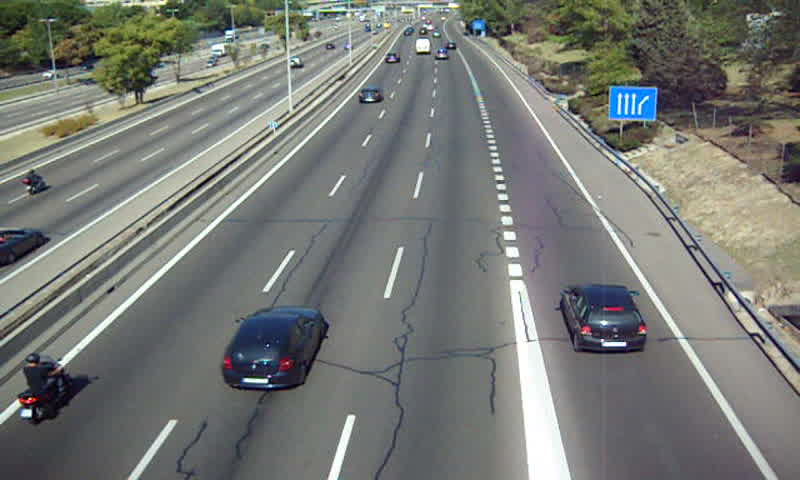car: (219, 306, 325, 391), (561, 285, 646, 353), (358, 88, 383, 104)
motorcycle: (16, 354, 68, 423)
